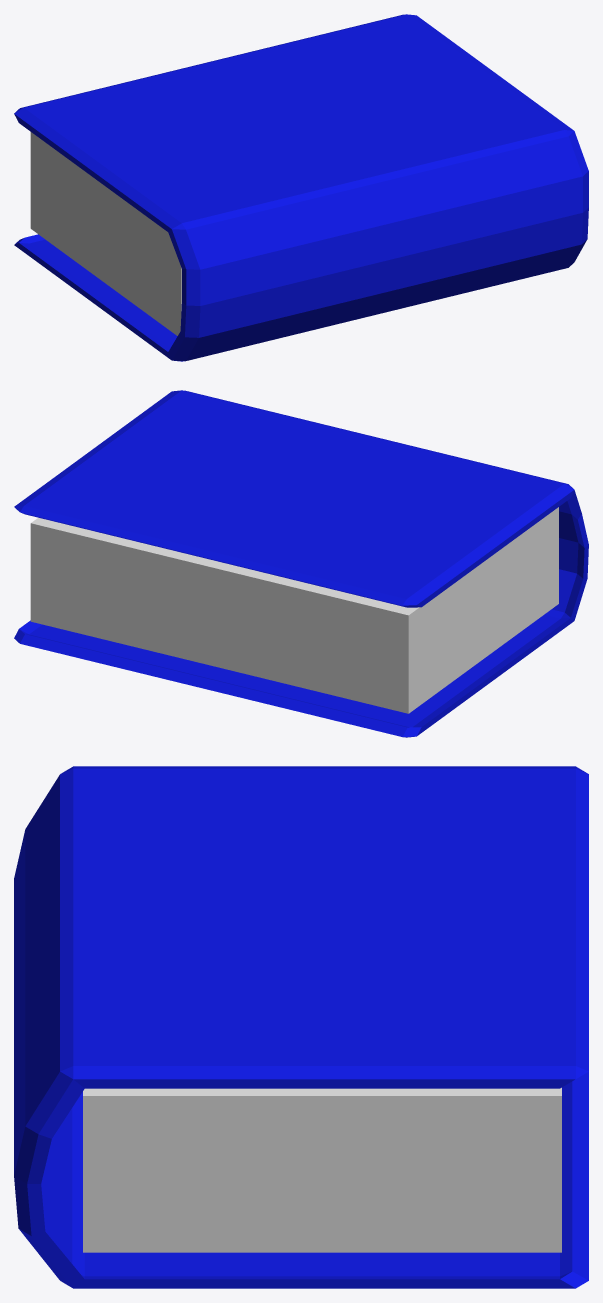
Rendered from book.fbx.
3 renders of one model, top to bottom at view 1: azimuth 30°, elevation 25°; view 2: azimuth 150°, elevation 25°; view 3: azimuth 270°, elevation 25°, orthographic. The views are drawn at different scales.
Parts seen in each view (by area): view 1: Cube.001, Cube; view 2: Cube.001, Cube; view 3: Cube.001, Cube.
Boxes of the visible parts, bbox=[...] form: Cube.001: bbox=[14, 14, 588, 361]; Cube: bbox=[30, 132, 181, 335]; Cube.001: bbox=[14, 390, 588, 737]; Cube: bbox=[30, 507, 558, 713]; Cube.001: bbox=[14, 766, 588, 1288]; Cube: bbox=[83, 1087, 561, 1252].
Size of the model in its own units: 546 by 178 by 421.
